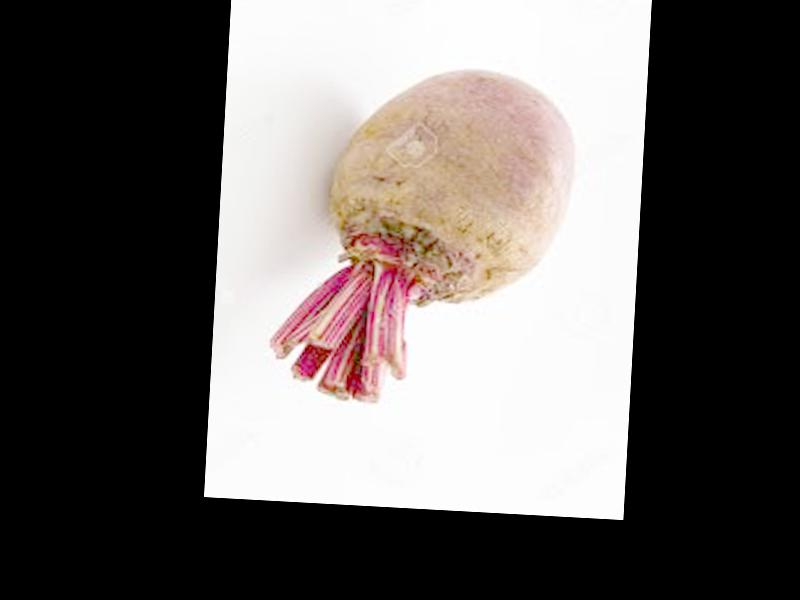Beet: (264, 58, 580, 412)
